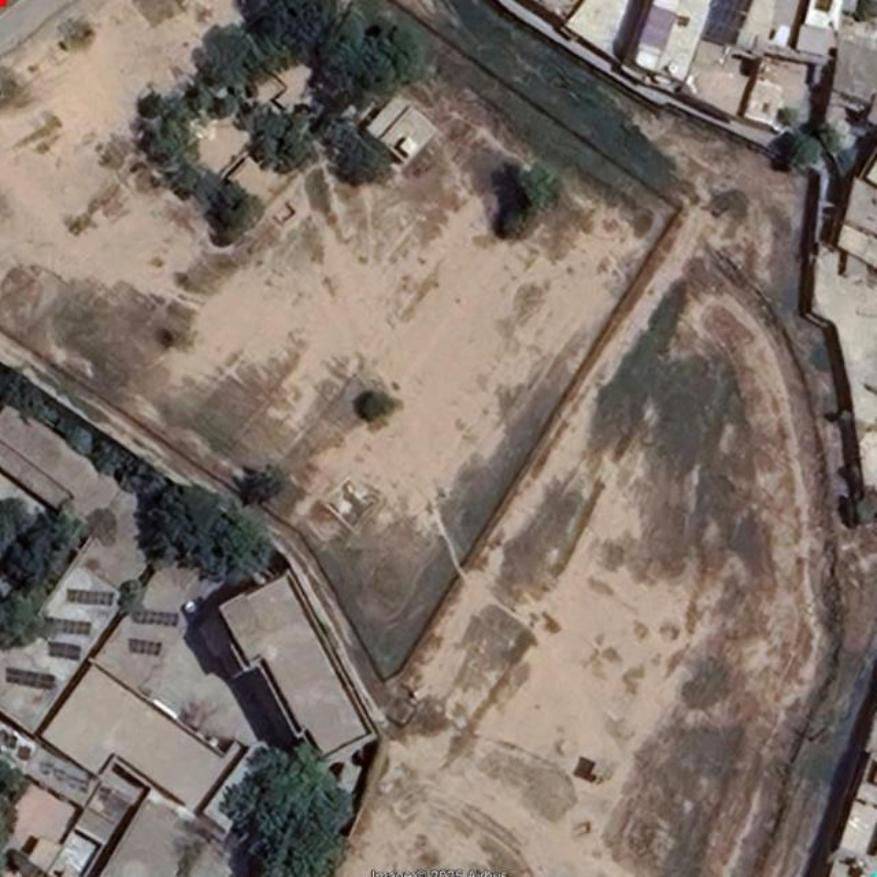Solarpanel: (703, 0, 751, 52), (6, 667, 56, 690), (129, 610, 181, 628), (46, 616, 92, 635), (64, 589, 114, 605), (47, 643, 83, 660), (129, 639, 164, 655)
